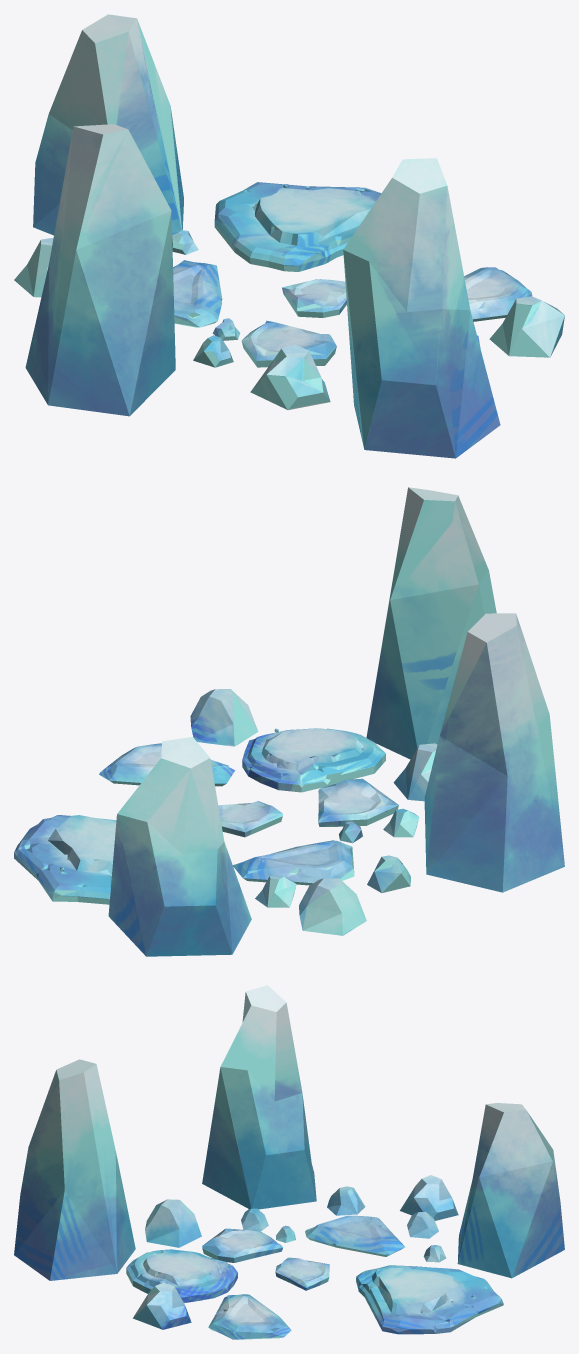
File: banquise.glb
The picture shows the model from 3 angles, top to bottom: view 1: azimuth 30°, elevation 25°; view 2: azimuth 150°, elevation 25°; view 3: azimuth 270°, elevation 25°; orthographic projection. The views are drawn at different scales.
Parts seen in each view (by area): view 1: Banquise; view 2: Banquise; view 3: Banquise.
Boxes of the visible parts, <box> form: Banquise: <box>14,14,564,458</box>; Banquise: <box>14,487,564,956</box>; Banquise: <box>14,985,564,1339</box>.
Bounding box in the file's own units: 51.43 × 27.18 × 69.08.
Materials: 1 (1 with a texture image).
